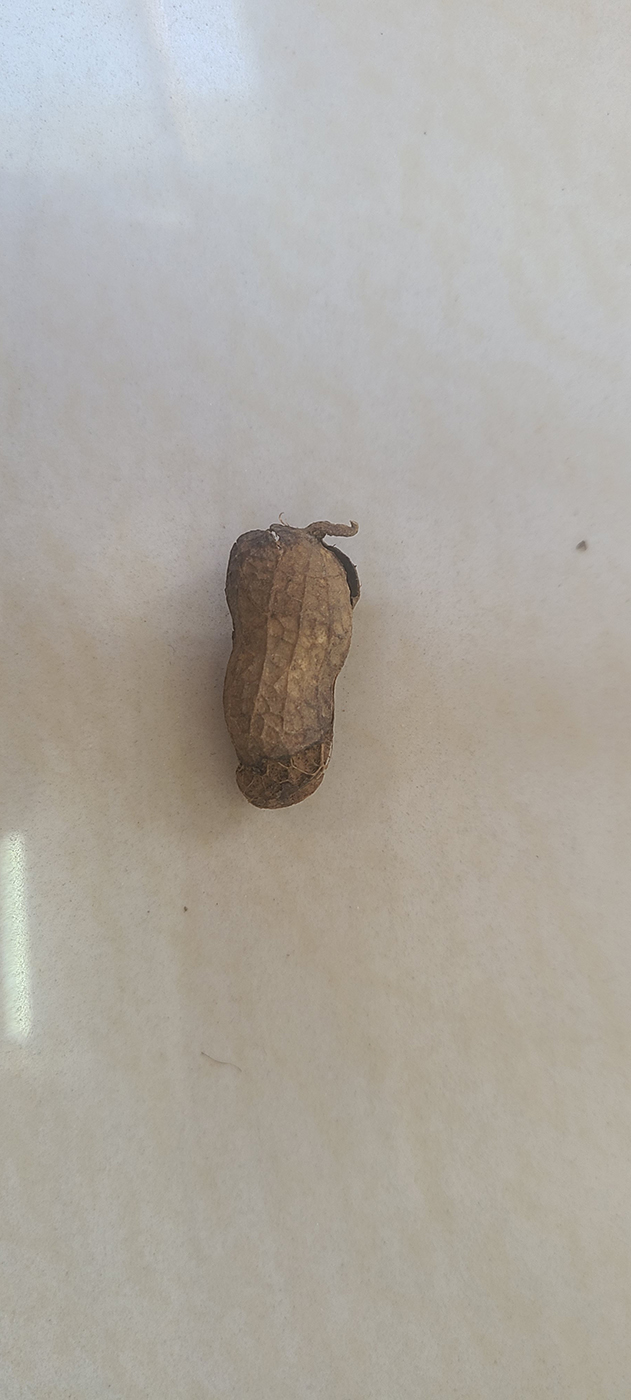l: (220, 518, 358, 811)
